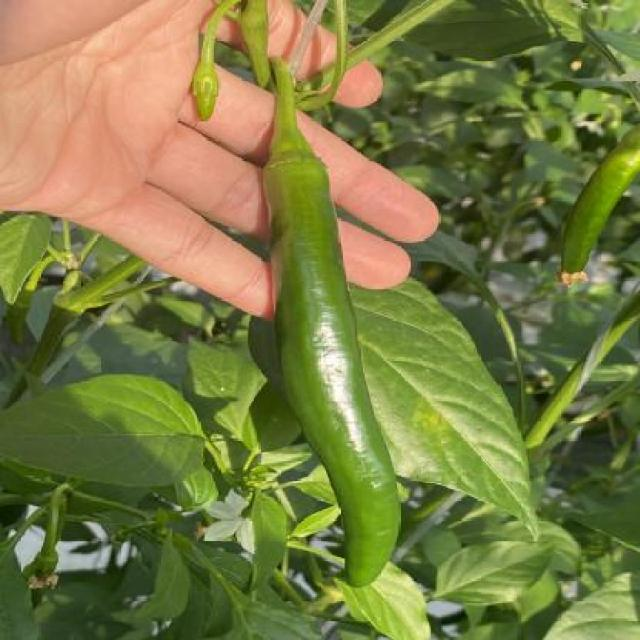green chilli: (263, 162, 402, 588)
